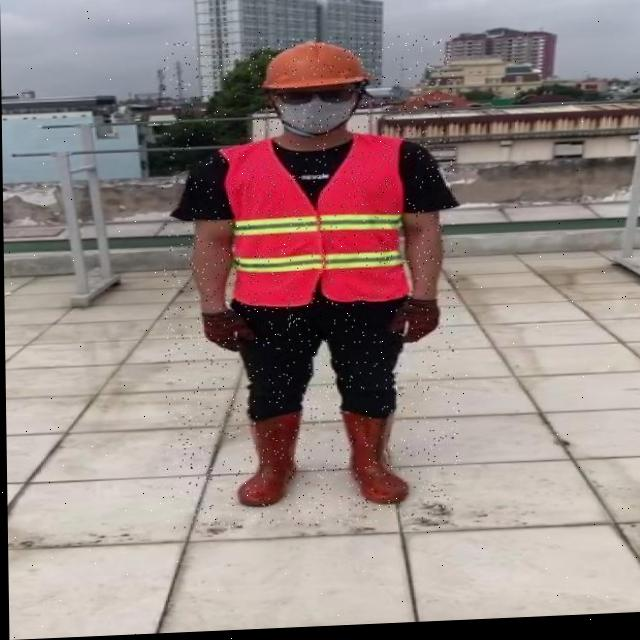Gloves: (387, 299, 439, 347), (200, 308, 254, 354)
Helmet: (260, 42, 370, 140)
Safety-Boot: (338, 409, 408, 510), (234, 411, 301, 509)
Safety-Vest: (217, 134, 410, 313)
